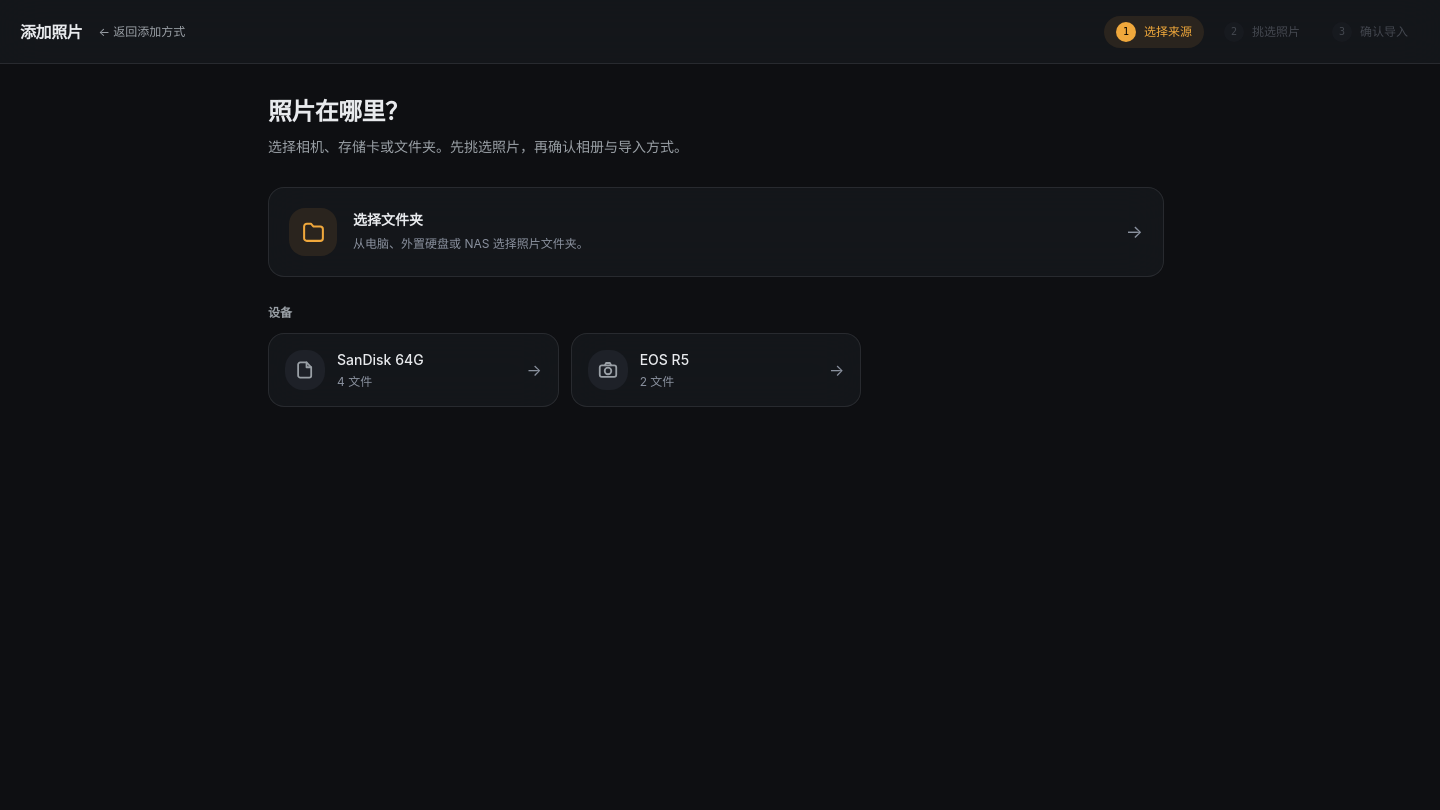
来源步 › 设备卡片列表：名称与文件数徽标；点击进入挑选步；未插卡行禁用
Check: the button with test id "wizard-device-item" shows "EOS R5", box [571,333,861,407]
Check: the button with test id "wizard-device-item" shows "2 文件", box [571,333,861,407]
# 点击进入挑选步：统计条出现且来源切换按钮显示设备名
Click the button with test id "wizard-device-item" at (413, 370), box [268,333,559,407]
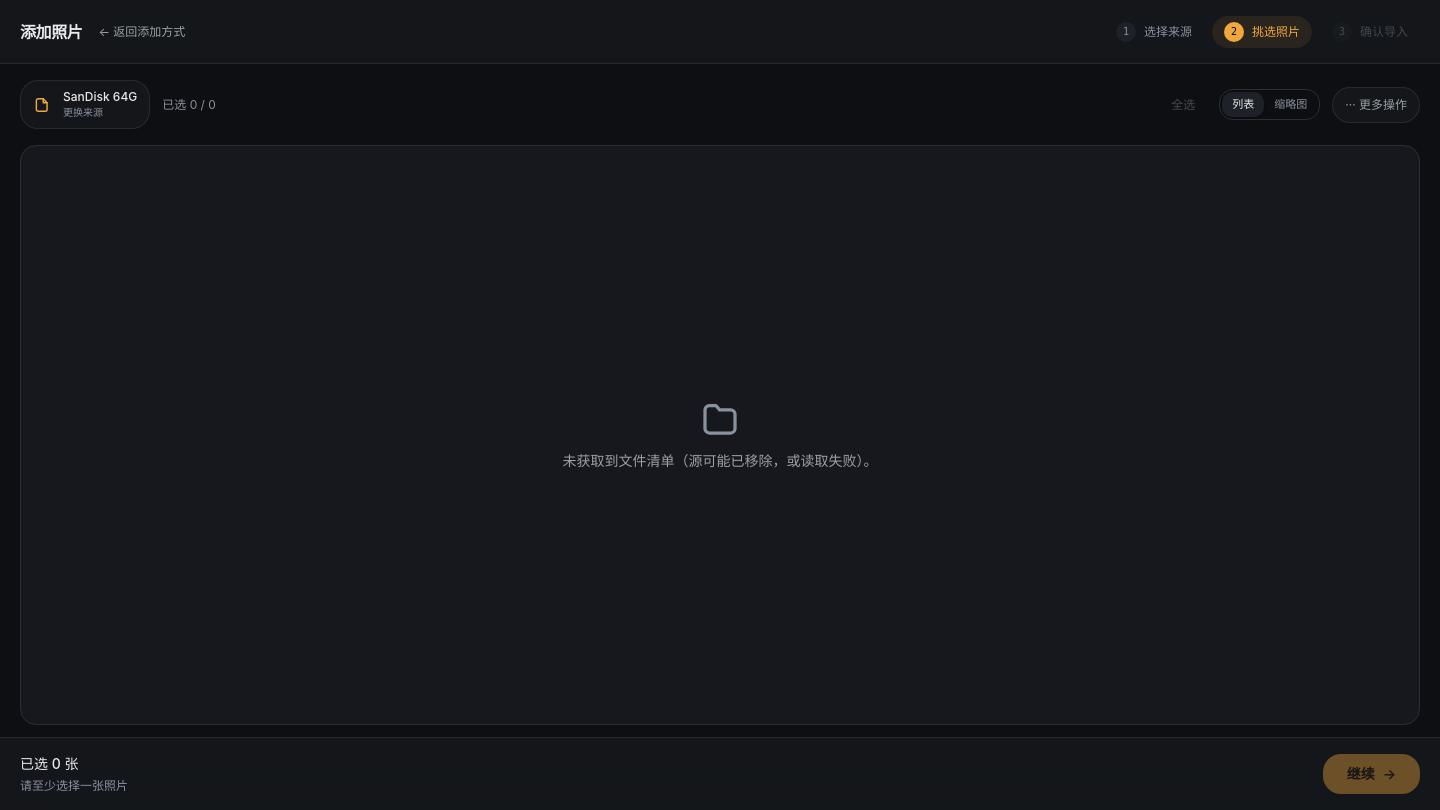
Check: the element with test id "wizard-table-stats" is shown, box [0,64,1439,145]
Check: the button with test id "wizard-source-toggle" shows "SanDisk 64G", box [20,80,150,129]
Check: the button with test id "wizard-source-toggle" shows "更换来源", box [20,80,150,129]
